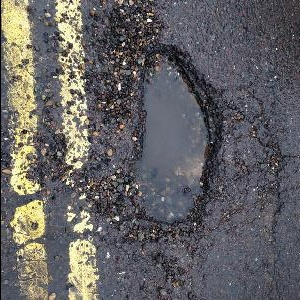pothole: (119, 41, 226, 240)
